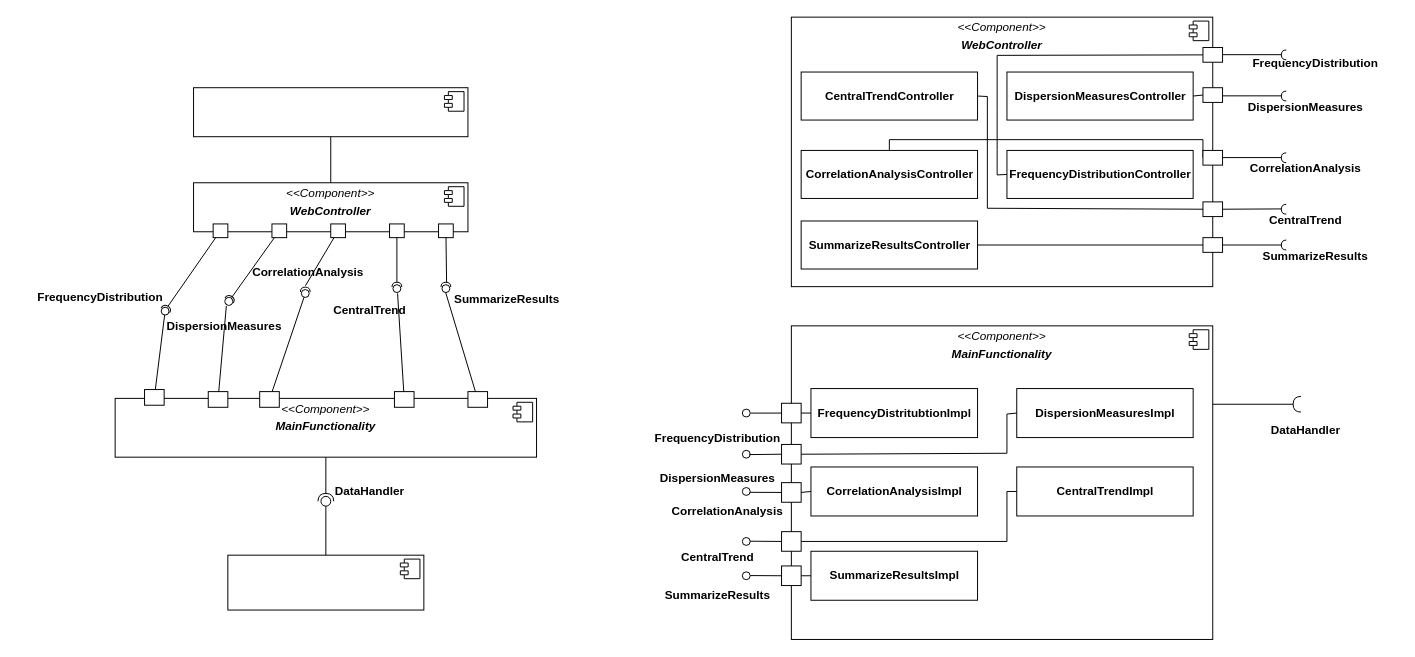
Some shapes in this 1415 by 657 pixel diagram are drawn without their labels. Each missing label, with the centre of its shape:
"<<Component>> DataHandlerImpl" belongs at pixel 325 582.
"<<Component>> MainMenuController" belongs at pixel 330 112.
